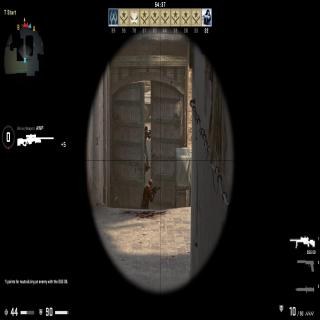T-Body: (140, 177, 158, 210), (145, 125, 151, 169)
T-Head: (148, 178, 154, 188), (144, 125, 149, 134)
